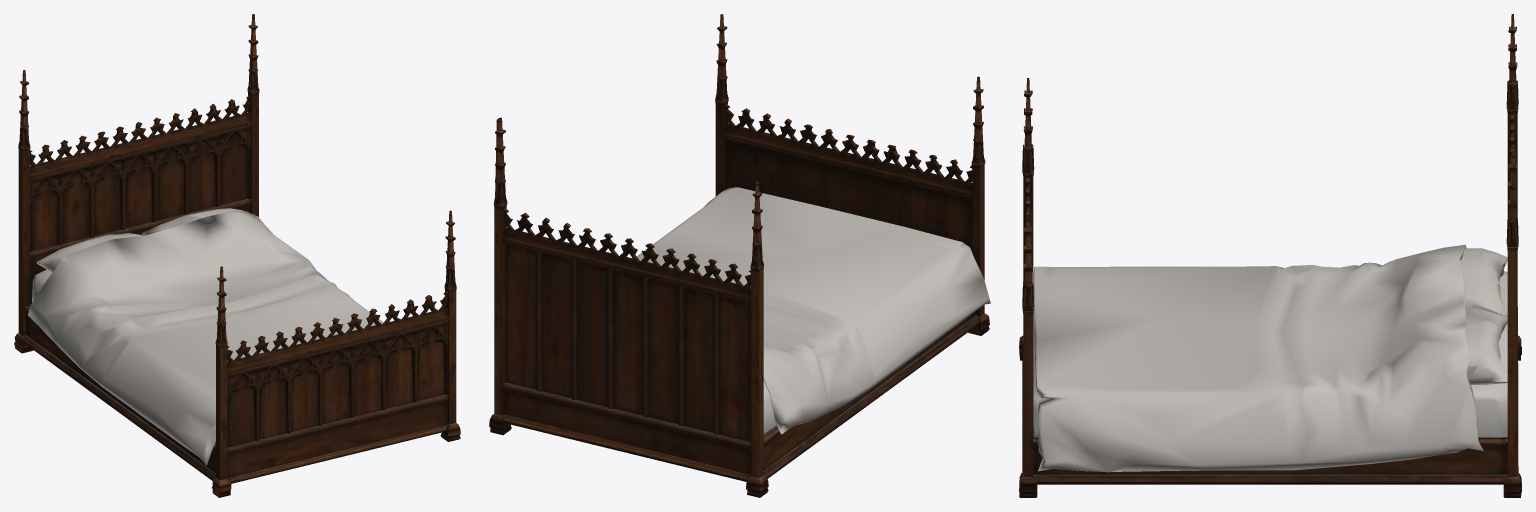
The model's file is bed_suite.glb.
3 renders of one model, left to right at view 1: azimuth 30°, elevation 25°; view 2: azimuth 150°, elevation 25°; view 3: azimuth 270°, elevation 25°, orthographic. The views are drawn at different scales.
Visible parts, largest first — view 1: GothicBed_01; view 2: GothicBed_01; view 3: GothicBed_01.
Boxes of the visible parts, <box> form: GothicBed_01: <box>14,14,460,497</box>; GothicBed_01: <box>489,14,990,497</box>; GothicBed_01: <box>1019,14,1521,497</box>.
Size of the model in its own units: 1.49 by 1.53 by 2.04.
Materials: 1 (1 with a texture image).
